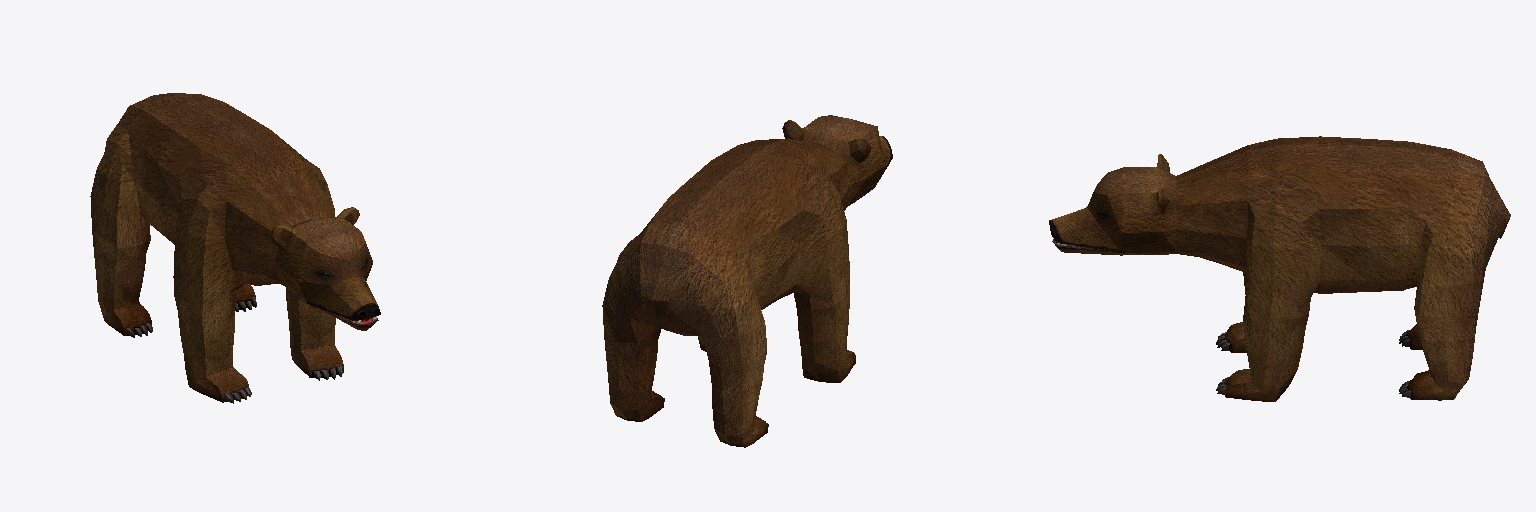
The picture shows the model from 3 angles: view 1: azimuth 30°, elevation 25°; view 2: azimuth 150°, elevation 25°; view 3: azimuth 270°, elevation 25°; orthographic projection.
Visible parts, largest first — view 1: bear; view 2: bear; view 3: bear.
Part boxes in pixels (bbox=[...]): bear: bbox=[90, 93, 380, 403]; bear: bbox=[602, 115, 892, 447]; bear: bbox=[1049, 136, 1510, 401].
Size of the model in its own units: 5.3 by 7.65 by 14.29.
1 materials, 1 textured.